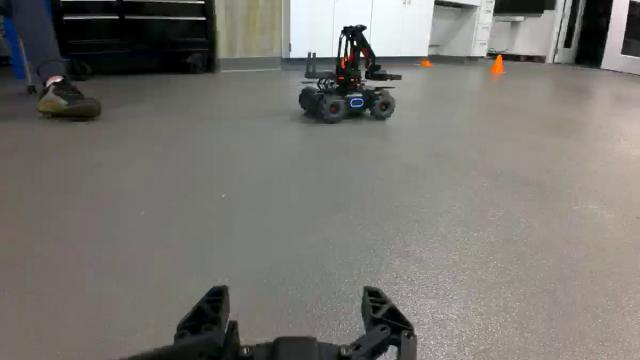robot: (291, 24, 404, 120)
